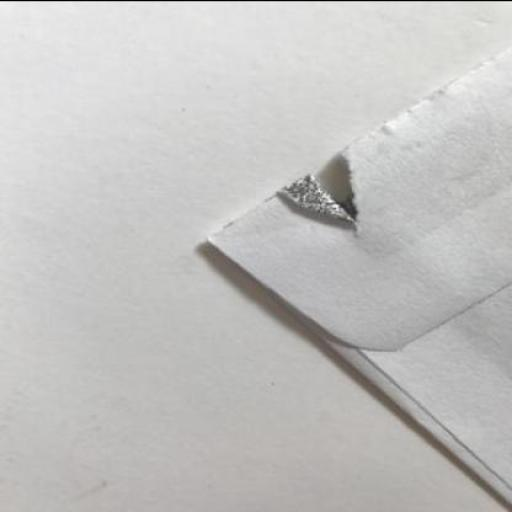paper: (206, 46, 510, 510)
